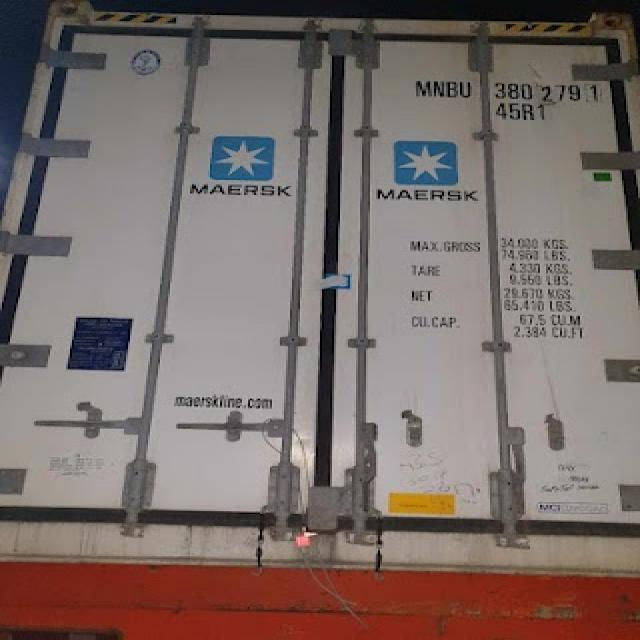ISO: (496, 100, 544, 122)
container_number: (418, 80, 601, 104)
